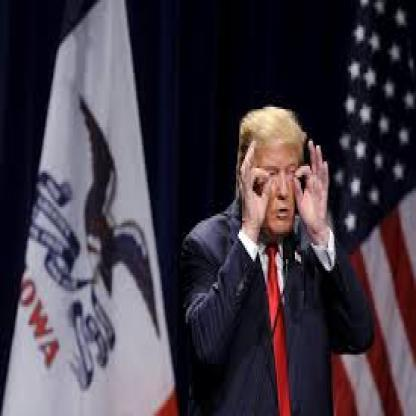ok: (290, 138, 331, 234), (238, 136, 275, 235)
